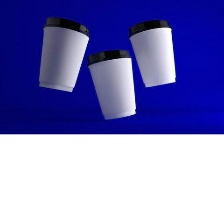paper_cup: (32, 11, 92, 94), (83, 45, 141, 122), (123, 14, 180, 90)
